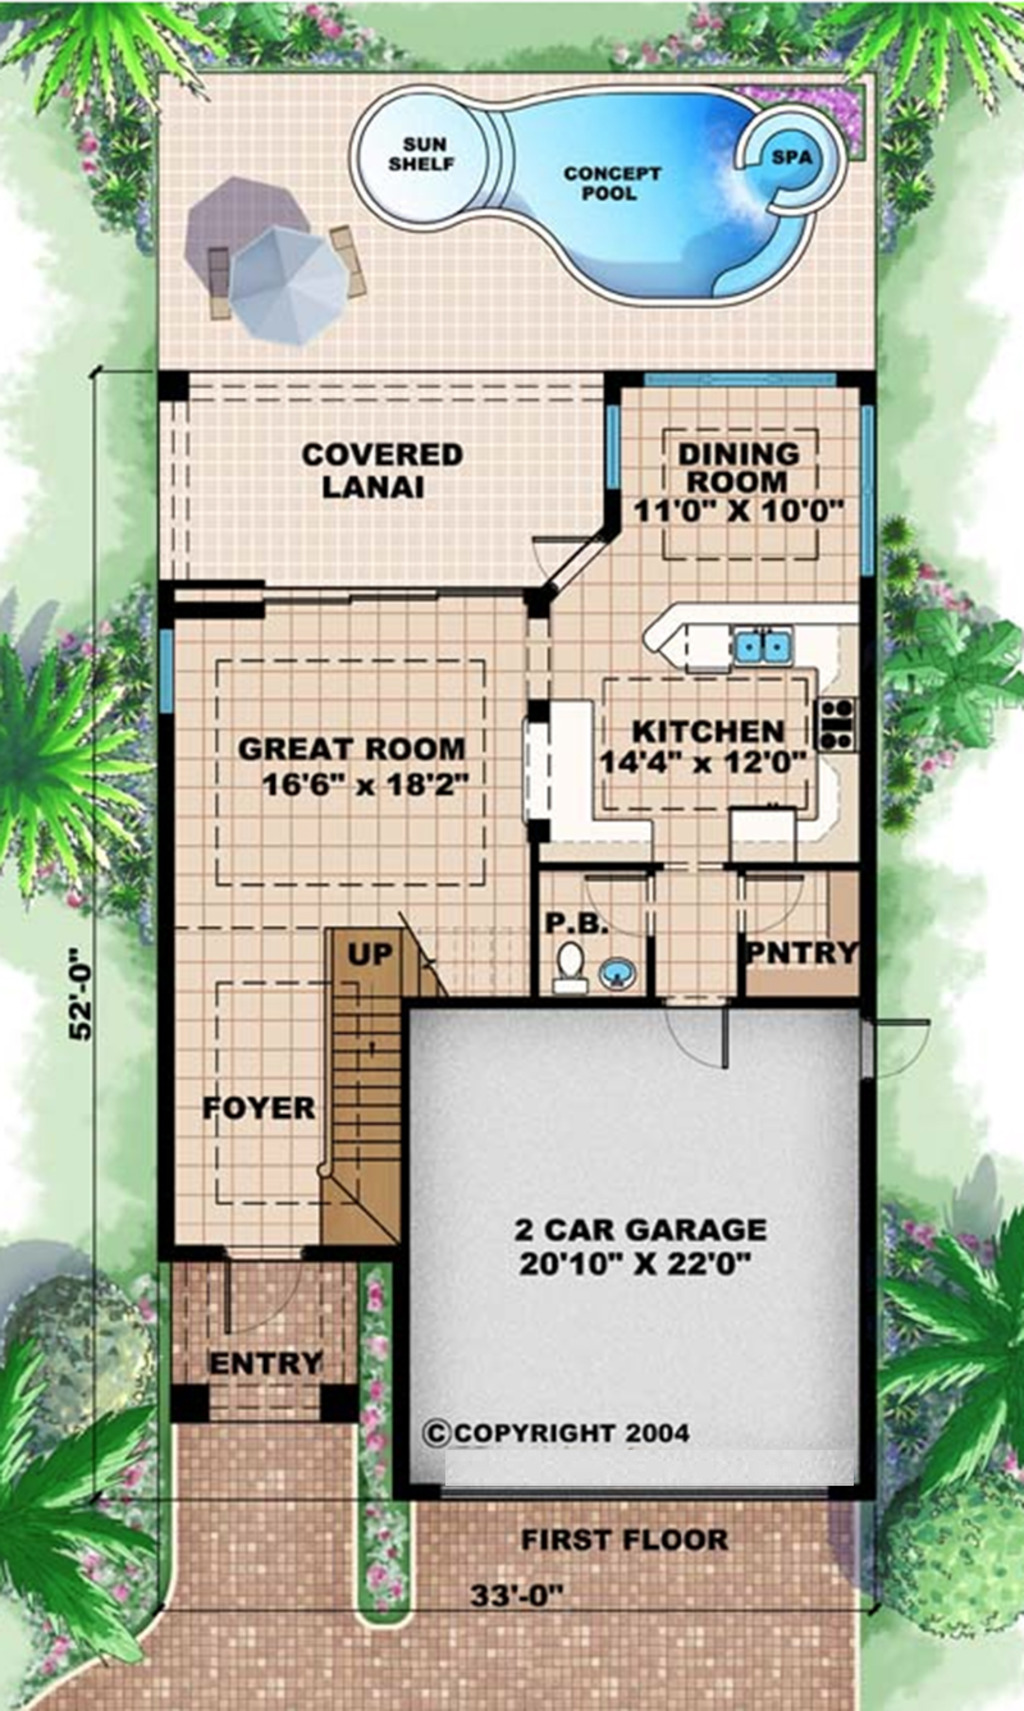door: (738, 860, 819, 937), (859, 1013, 930, 1086), (660, 1009, 729, 1075)
large_sink: (545, 937, 594, 1002)
stairs: (318, 916, 410, 1252)
twin_sink: (725, 628, 792, 675)
windows: (636, 364, 855, 397), (856, 402, 881, 583), (152, 622, 176, 718)
